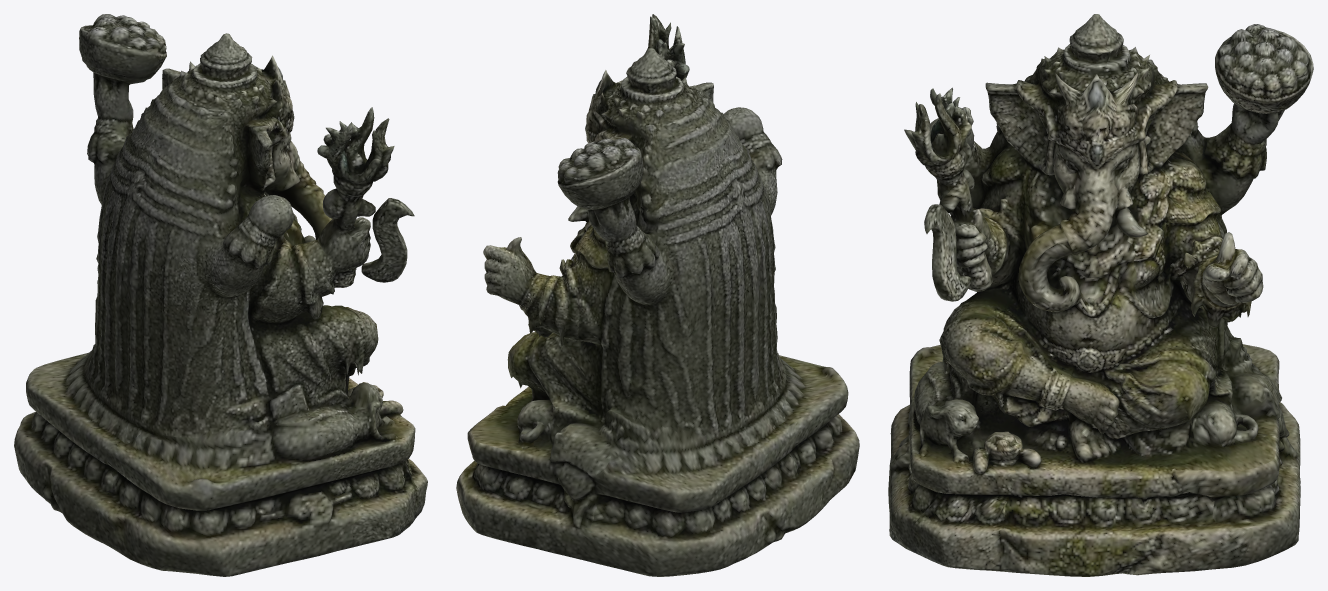
Rendered from tripo_convert_4225d84a-fa03-4718-8dea-adc5cbebdb85.fbx.
3 renders of one model, left to right at view 1: azimuth 30°, elevation 25°; view 2: azimuth 150°, elevation 25°; view 3: azimuth 270°, elevation 25°, orthographic. The views are drawn at different scales.
Visible parts, largest first — view 1: tripo_node_4225d84a; view 2: tripo_node_4225d84a; view 3: tripo_node_4225d84a.
Boxes of the visible parts, x1,y1,x2,y2 form: tripo_node_4225d84a: [14, 14, 427, 576]; tripo_node_4225d84a: [456, 14, 859, 576]; tripo_node_4225d84a: [888, 14, 1313, 576].
Bounding box in the file's own units: 0.697 × 0.9997 × 0.7909.
Materials: 1 (1 with a texture image).
